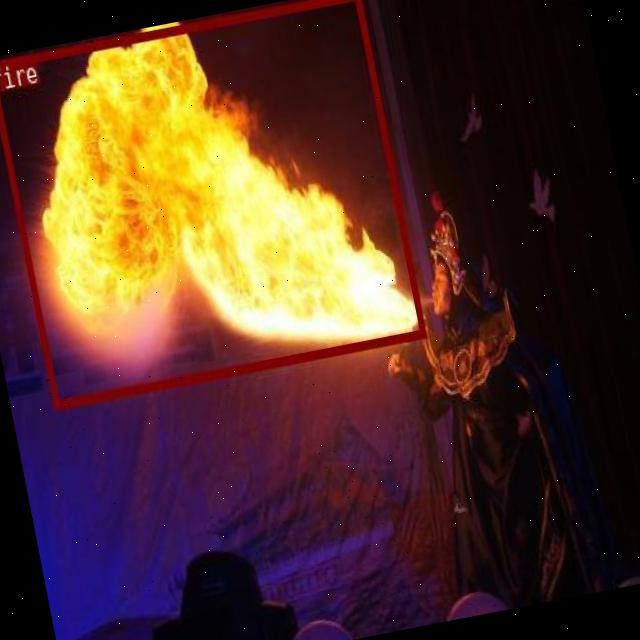fire: (0, 0, 425, 407)
